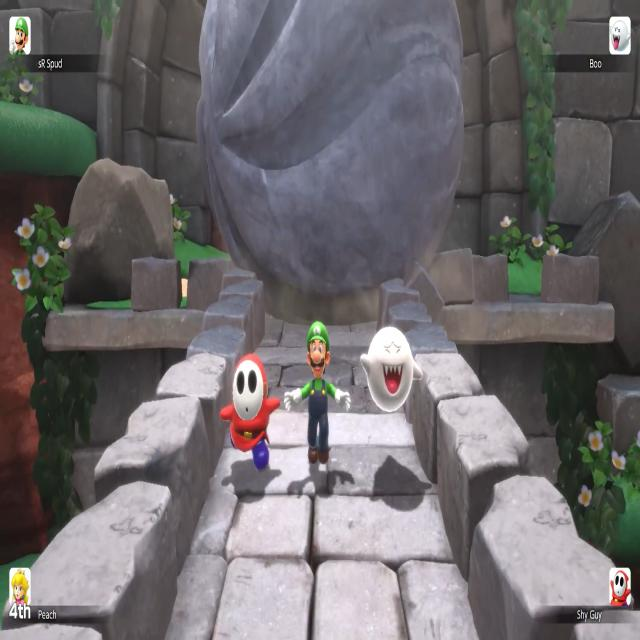Boo: (360, 326, 422, 413)
Luigi: (284, 321, 350, 465)
Shy Guy: (219, 352, 280, 472)
rolling stone: (197, 0, 465, 324)
